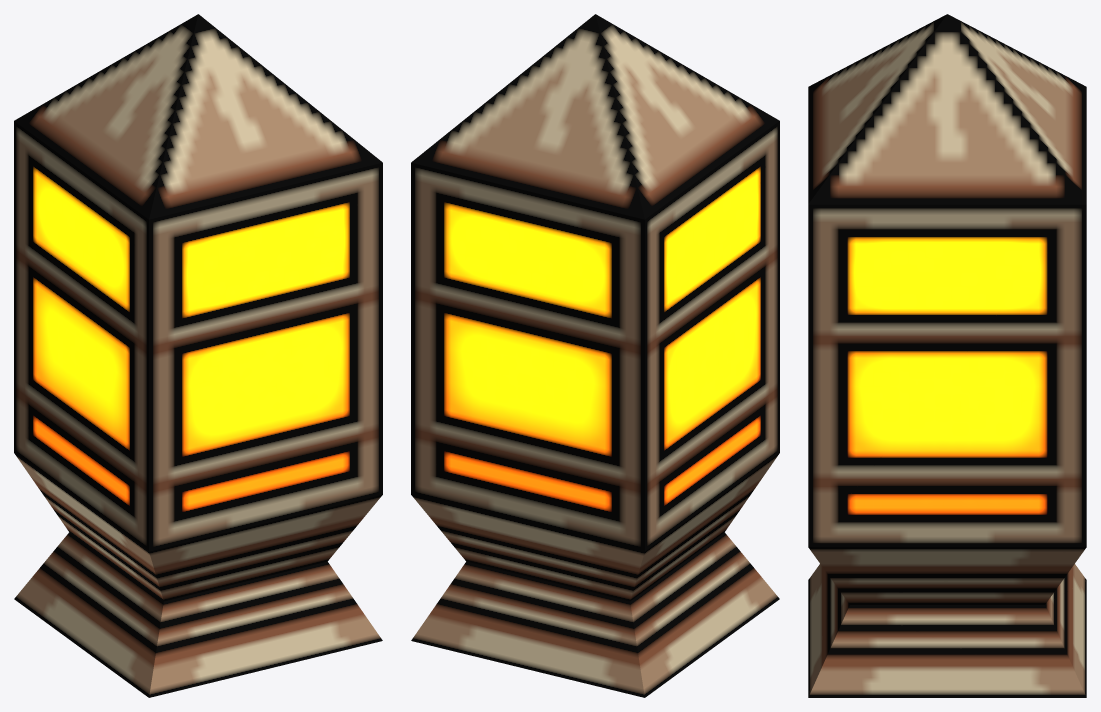
The model's file is deco_light_small.FBX.
3 renders of one model, left to right at view 1: azimuth 30°, elevation 25°; view 2: azimuth 150°, elevation 25°; view 3: azimuth 270°, elevation 25°, orthographic. The views are drawn at different scales.
Parts seen in each view (by area): view 1: deco_light_small; view 2: deco_light_small; view 3: deco_light_small.
Part boxes in pixels (<box>): deco_light_small: <box>14,14,382,697</box>; deco_light_small: <box>411,14,779,697</box>; deco_light_small: <box>808,14,1086,697</box>.
Size of the model in its own units: 1 by 2.48 by 1.
1 material, 1 textured.
